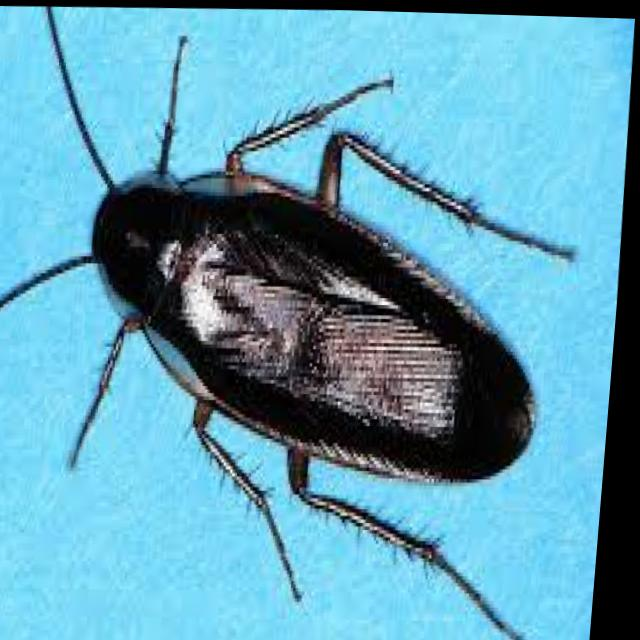Cockroach: (0, 1, 606, 640)
